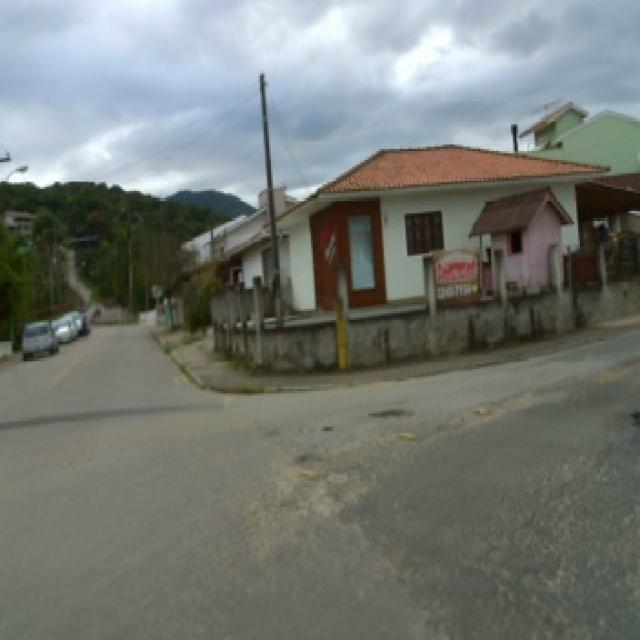Poth-hole: (362, 402, 414, 418), (288, 448, 316, 464), (467, 402, 493, 416), (392, 427, 420, 440), (298, 464, 324, 478), (624, 404, 636, 426), (318, 420, 333, 431)
